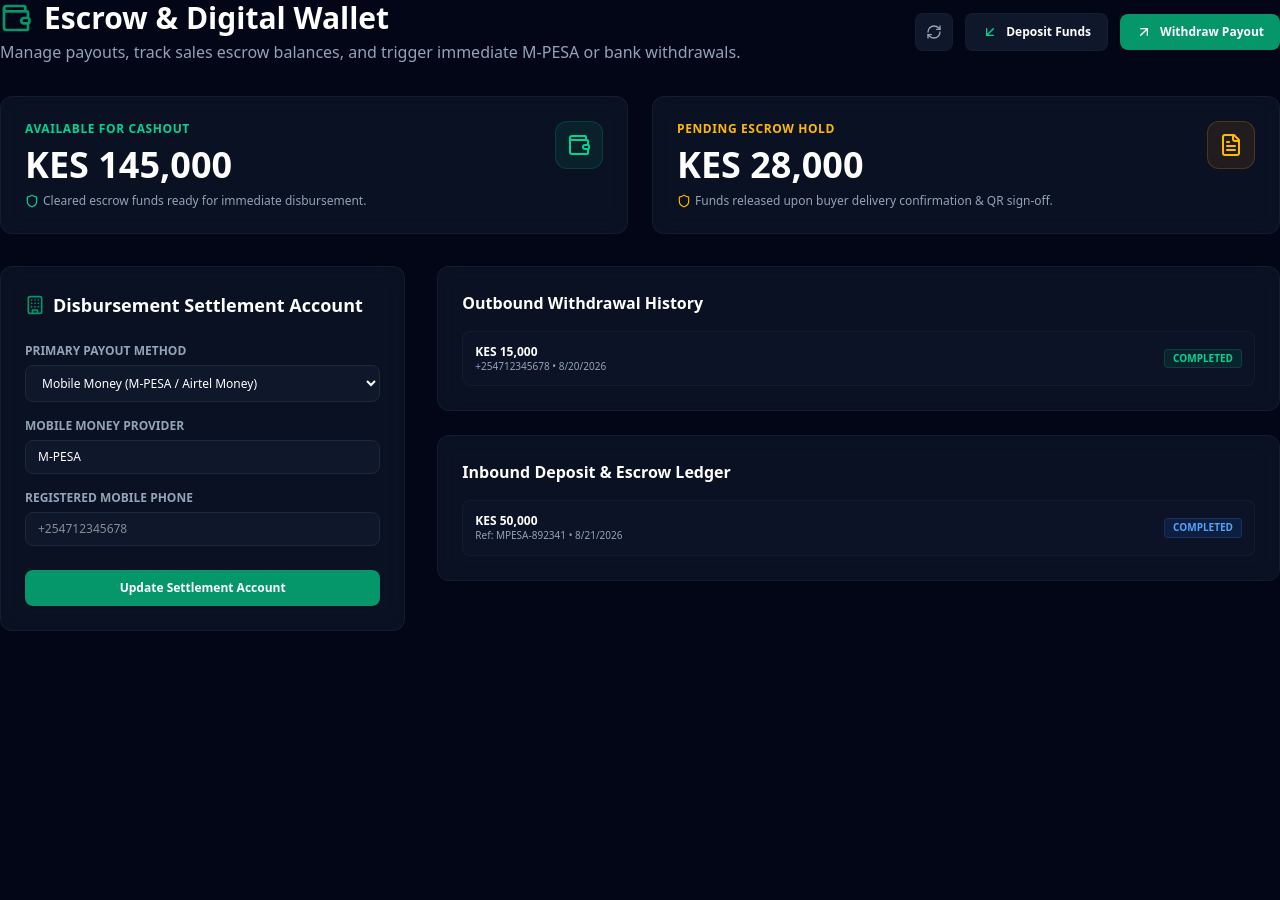
Test: FarmerWallet Component › opens withdrawal modal and validates amount
Click the button "Withdraw Payout". click: {"x": 1200, "y": 32}
box: [1120, 14, 1279, 50]
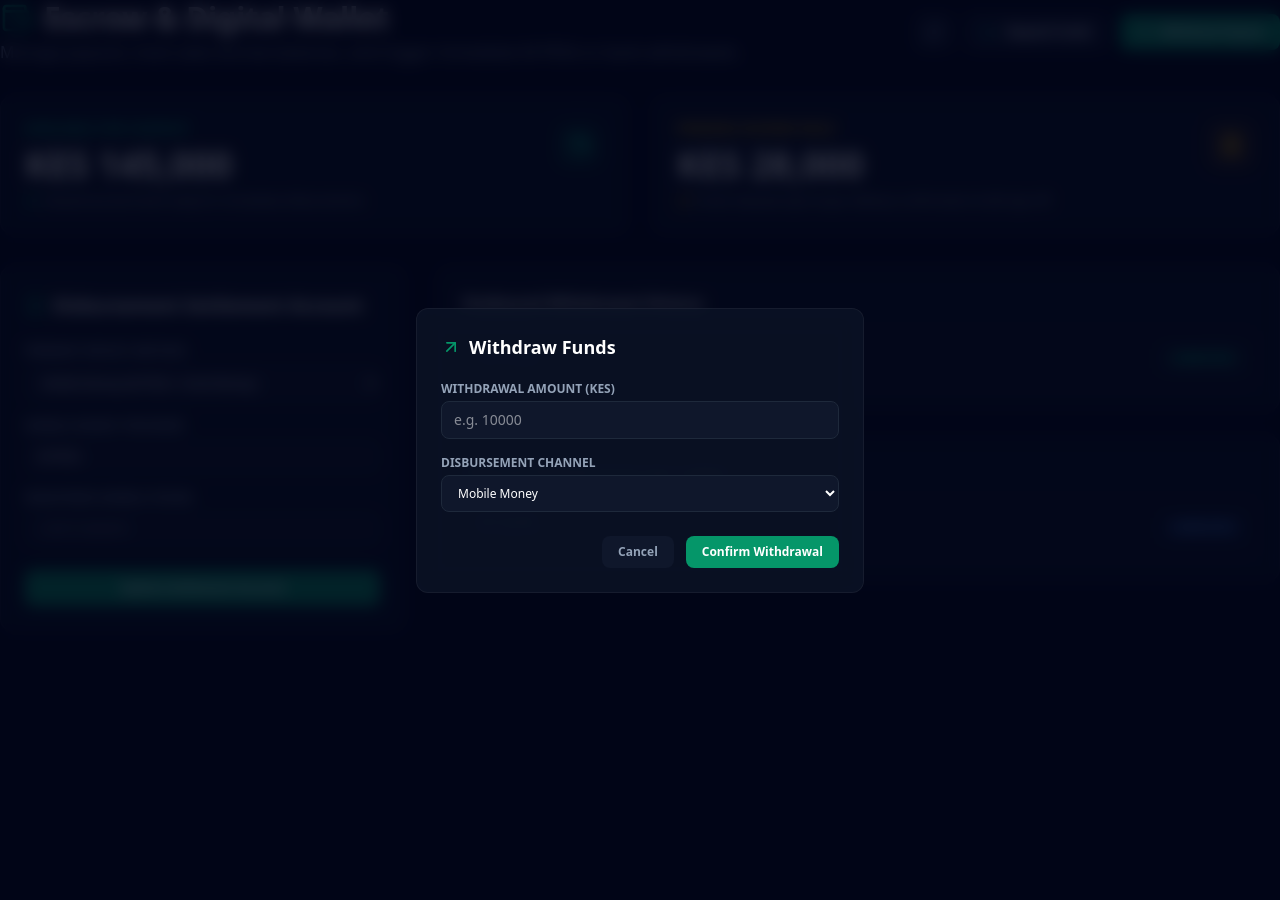
Now the text "Withdraw Funds" is shown, box [469, 332, 616, 360]
Type "5000" into the number field with placeholder "e.g. 10000". click: {"x": 640, "y": 420}
box: [441, 400, 839, 438]
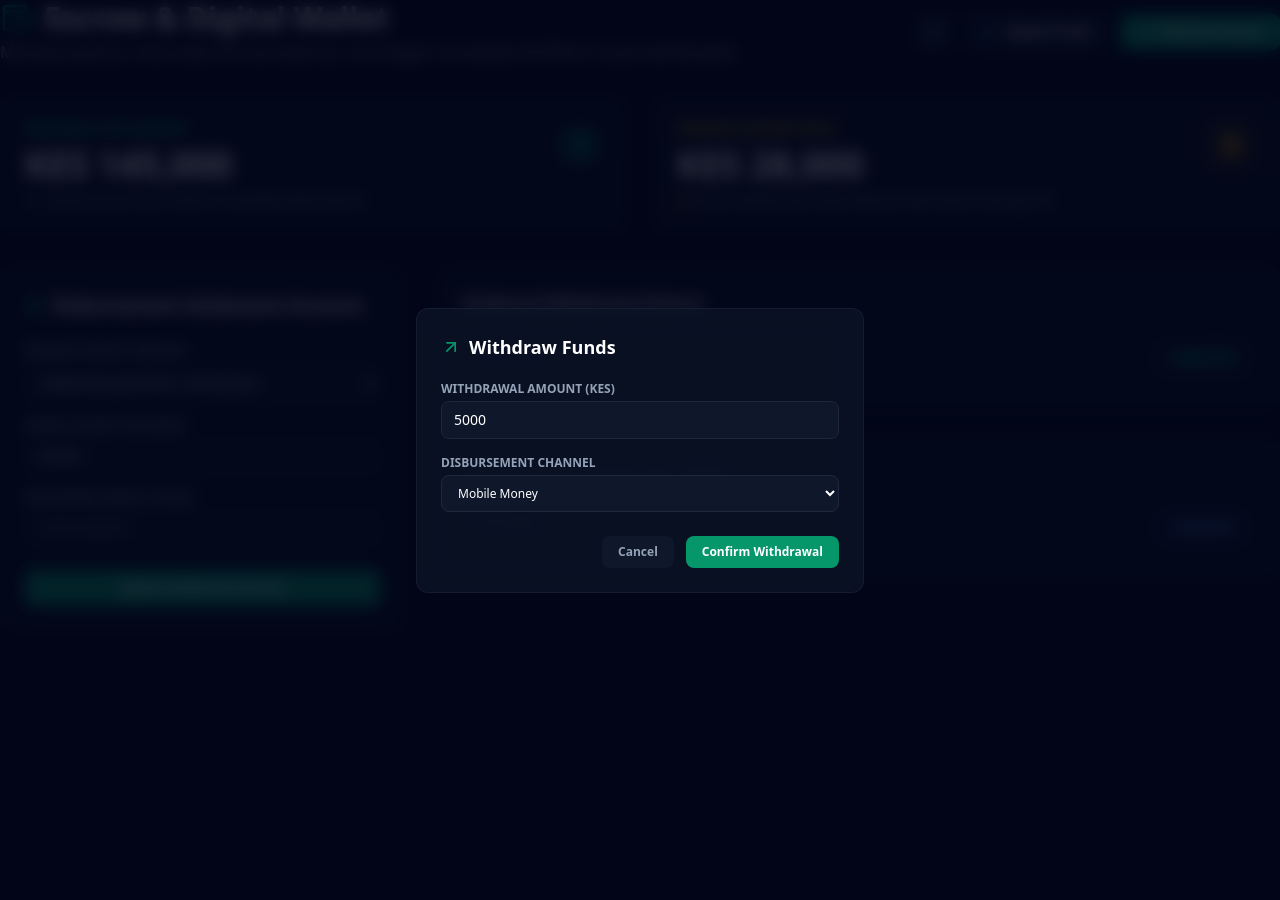
Click the button "Confirm Withdrawal". click: {"x": 762, "y": 552}
box: [686, 536, 839, 568]
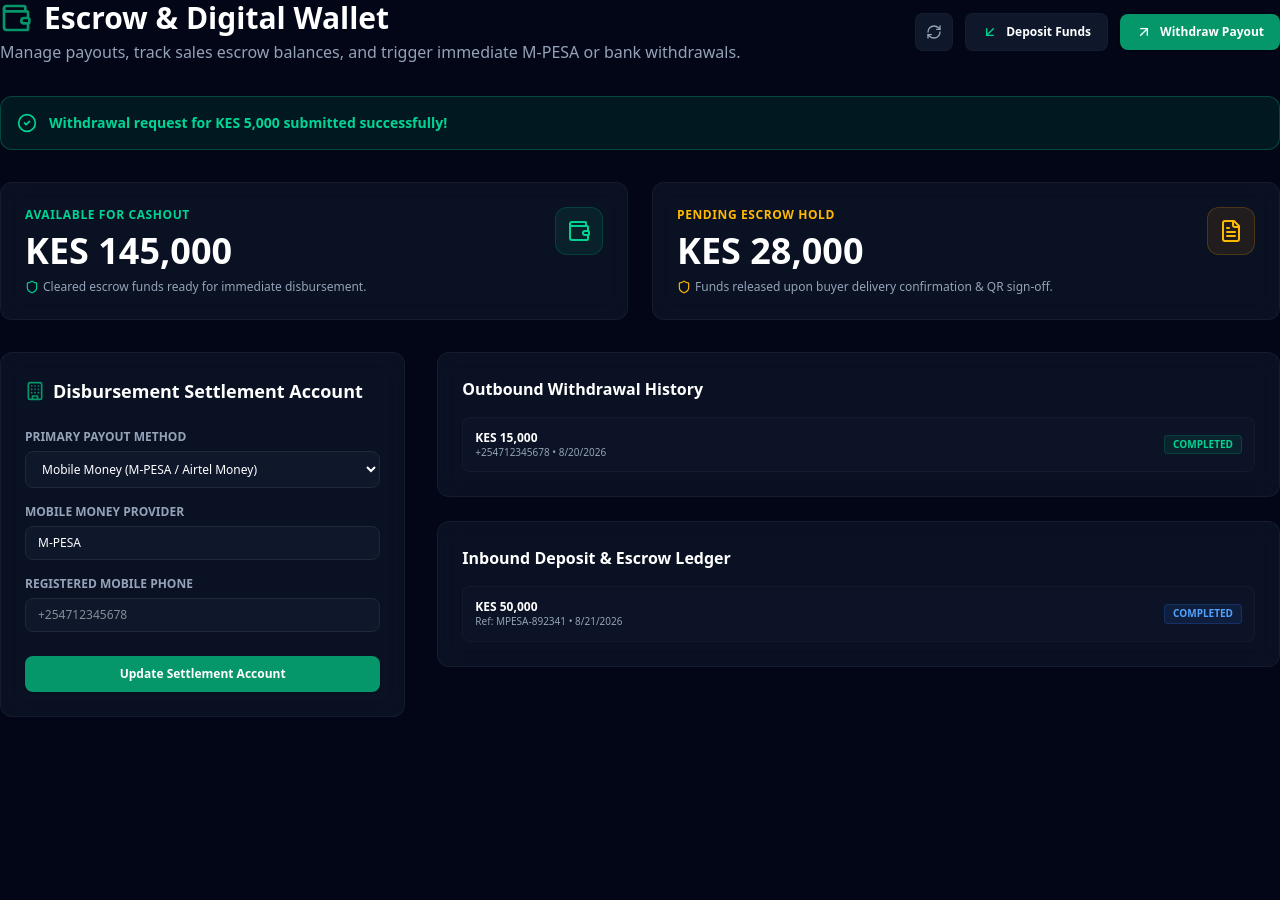
Now the text "Withdraw Funds" is gone
